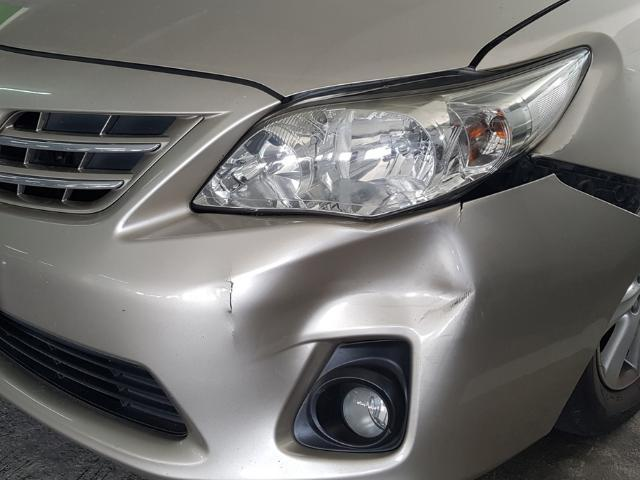Bumper: (215, 196, 500, 393)
